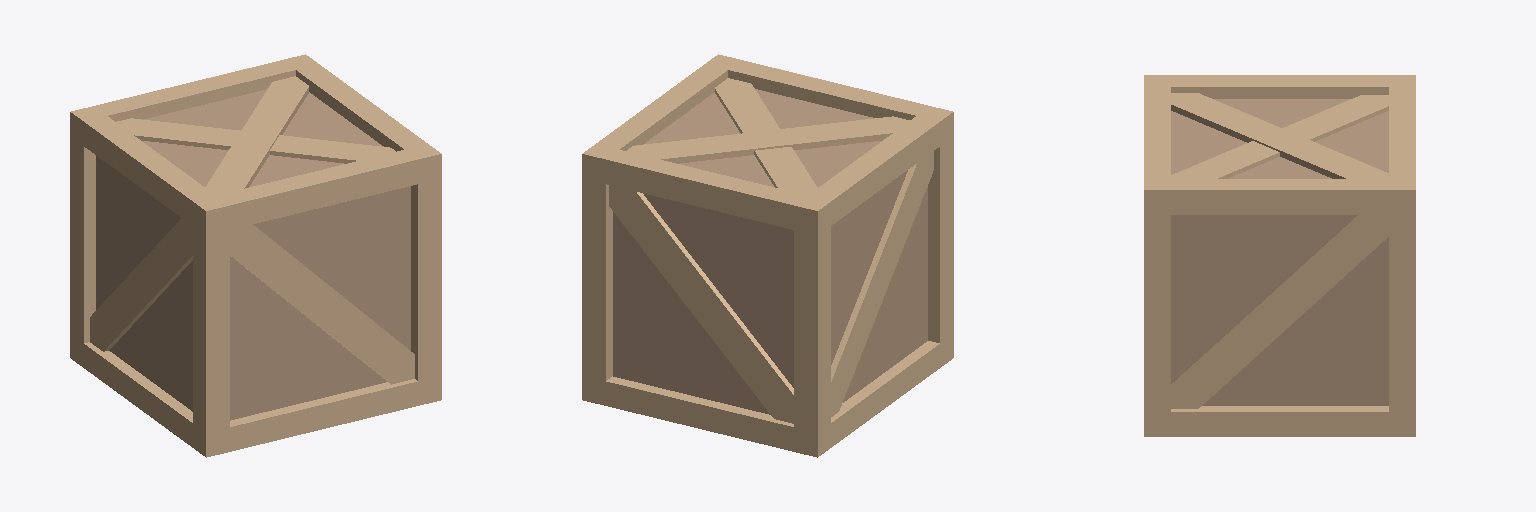
Rendered from prop_floor_crate.obj.
3 renders of one model, left to right at view 1: azimuth 30°, elevation 25°; view 2: azimuth 150°, elevation 25°; view 3: azimuth 270°, elevation 25°, orthographic.
Parts seen in each view (by area): view 1: prop_floor_crate; view 2: prop_floor_crate; view 3: prop_floor_crate.
Boxes of the visible parts, box(x1,y1,x2,y2) form: prop_floor_crate: box(70, 54, 441, 457); prop_floor_crate: box(582, 54, 953, 457); prop_floor_crate: box(1144, 75, 1415, 436).
Bounding box in the file's own units: 1 × 1 × 1.